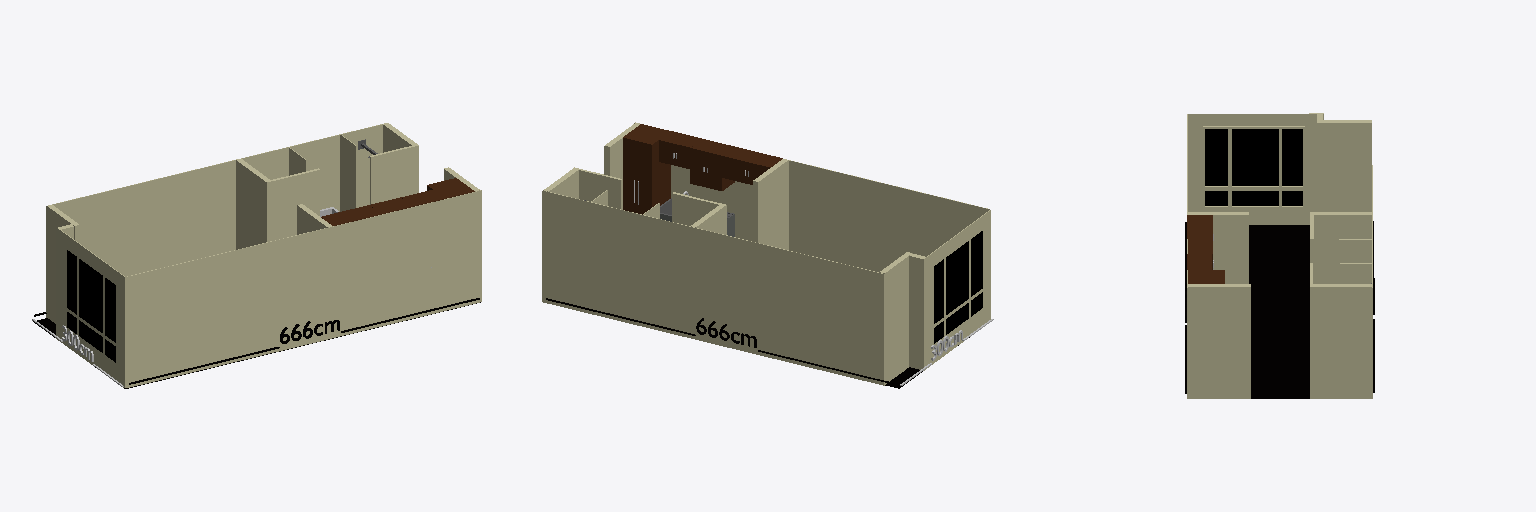
File: studio.obj
3 renders of one model, left to right at view 1: azimuth 30°, elevation 25°; view 2: azimuth 150°, elevation 25°; view 3: azimuth 270°, elevation 25°, orthographic.
Parts seen in each view (by area): view 1: righwall_Cube.037, leftwall_Cube.035, windowwall_Cube.036, crWall2_Cube.005, crWall_Cube.004, showerWall_Cube.003, backwall_Cube.023, showerGlass_Cube.006, Text_Text.003, longcabinet_Cube.018, kitchenwall_Cube.019, frontwall_Cube.002 (+1 smaller); view 2: leftwall_Cube.035, righwall_Cube.037, windowwall_Cube.036, tallCabinet_Cube.012, backwall_Cube.023, kitchenwall_Cube.019, mediumcabinet_Cube.017, smallwall_Cube.024, longcabinet_Cube.018, showerWall_Cube.003, smallCabinet_Cube.016, crWall2_Cube.005 (+4 smaller); view 3: windowwall_Cube.036, floor_Cube.001, frontwall2_Cube.021, frontwall_Cube.002, backwall_Cube.023, crWall_Cube.004, kitchenwall_Cube.019, crGlass_Cube.007, showerGlass_Cube.006, longcabinet_Cube.018.
Part boxes in pixels (left/top/right/bottom): righwall_Cube.037: left=126, top=190, right=481, bottom=387; leftwall_Cube.035: left=46, top=124, right=382, bottom=317; windowwall_Cube.036: left=56, top=227, right=125, bottom=387; crWall2_Cube.005: left=267, top=168, right=319, bottom=241; crWall_Cube.004: left=236, top=159, right=271, bottom=249; showerWall_Cube.003: left=370, top=144, right=418, bottom=204; backwall_Cube.023: left=47, top=205, right=79, bottom=323; showerGlass_Cube.006: left=340, top=134, right=356, bottom=211; Text_Text.003: left=129, top=298, right=479, bottom=384; longcabinet_Cube.018: left=321, top=205, right=381, bottom=225; kitchenwall_Cube.019: left=297, top=204, right=332, bottom=234; frontwall_Cube.002: left=383, top=123, right=416, bottom=152; leftwall_Cube.035: left=542, top=191, right=884, bottom=385; righwall_Cube.037: left=634, top=122, right=989, bottom=271; windowwall_Cube.036: left=923, top=210, right=990, bottom=370; tallCabinet_Cube.012: left=623, top=124, right=670, bottom=214; backwall_Cube.023: left=879, top=252, right=912, bottom=384; kitchenwall_Cube.019: left=753, top=159, right=788, bottom=249; mediumcabinet_Cube.017: left=690, top=139, right=734, bottom=190; smallwall_Cube.024: left=909, top=254, right=925, bottom=369; longcabinet_Cube.018: left=722, top=147, right=782, bottom=184; showerWall_Cube.003: left=573, top=167, right=622, bottom=209; smallCabinet_Cube.016: left=659, top=131, right=701, bottom=168; crWall2_Cube.005: left=672, top=192, right=720, bottom=225; windowwall_Cube.036: left=1188, top=113, right=1323, bottom=224; floor_Cube.001: left=1249, top=225, right=1309, bottom=398; frontwall2_Cube.021: left=1188, top=284, right=1250, bottom=398; frontwall_Cube.002: left=1313, top=284, right=1372, bottom=398; backwall_Cube.023: left=1317, top=120, right=1371, bottom=211; crWall_Cube.004: left=1310, top=212, right=1371, bottom=283; kitchenwall_Cube.019: left=1188, top=212, right=1248, bottom=283; crGlass_Cube.007: left=1339, top=239, right=1371, bottom=283; showerGlass_Cube.006: left=1340, top=263, right=1371, bottom=283; longcabinet_Cube.018: left=1187, top=215, right=1212, bottom=238.
Bounding box in the file's own units: 6.73 × 2.02 × 3.07.